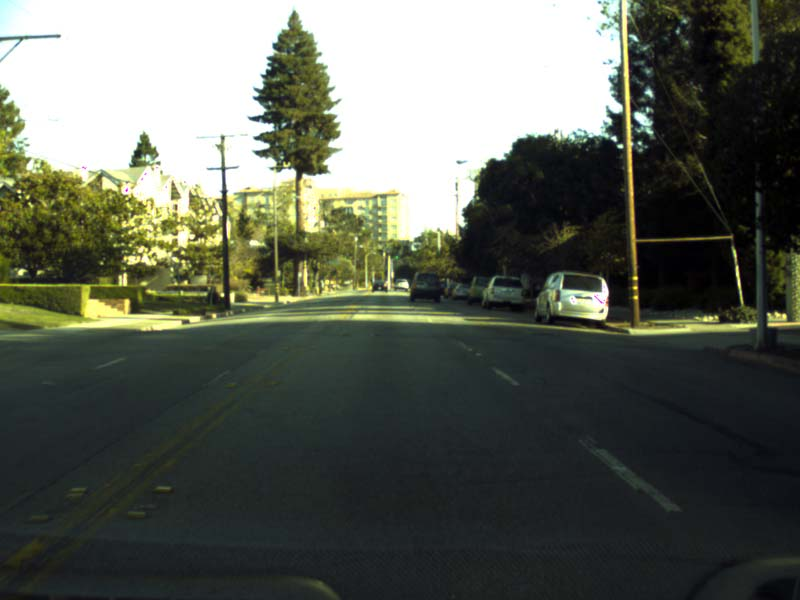Green: (393, 248, 398, 260)
